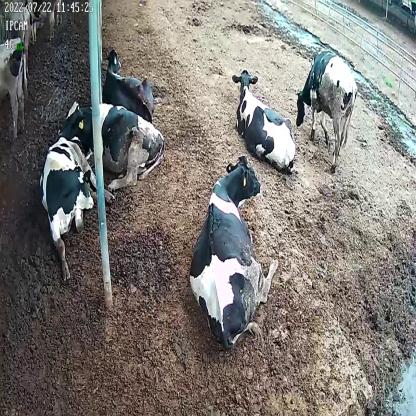cow: (188, 153, 279, 354), (41, 135, 113, 288), (58, 97, 164, 196), (294, 48, 359, 176), (232, 63, 297, 173), (104, 41, 158, 120)
